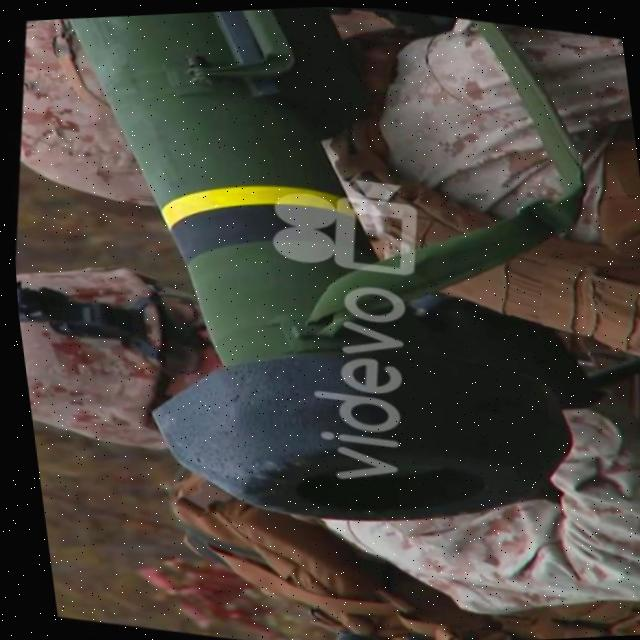rocket: (0, 0, 640, 580)
